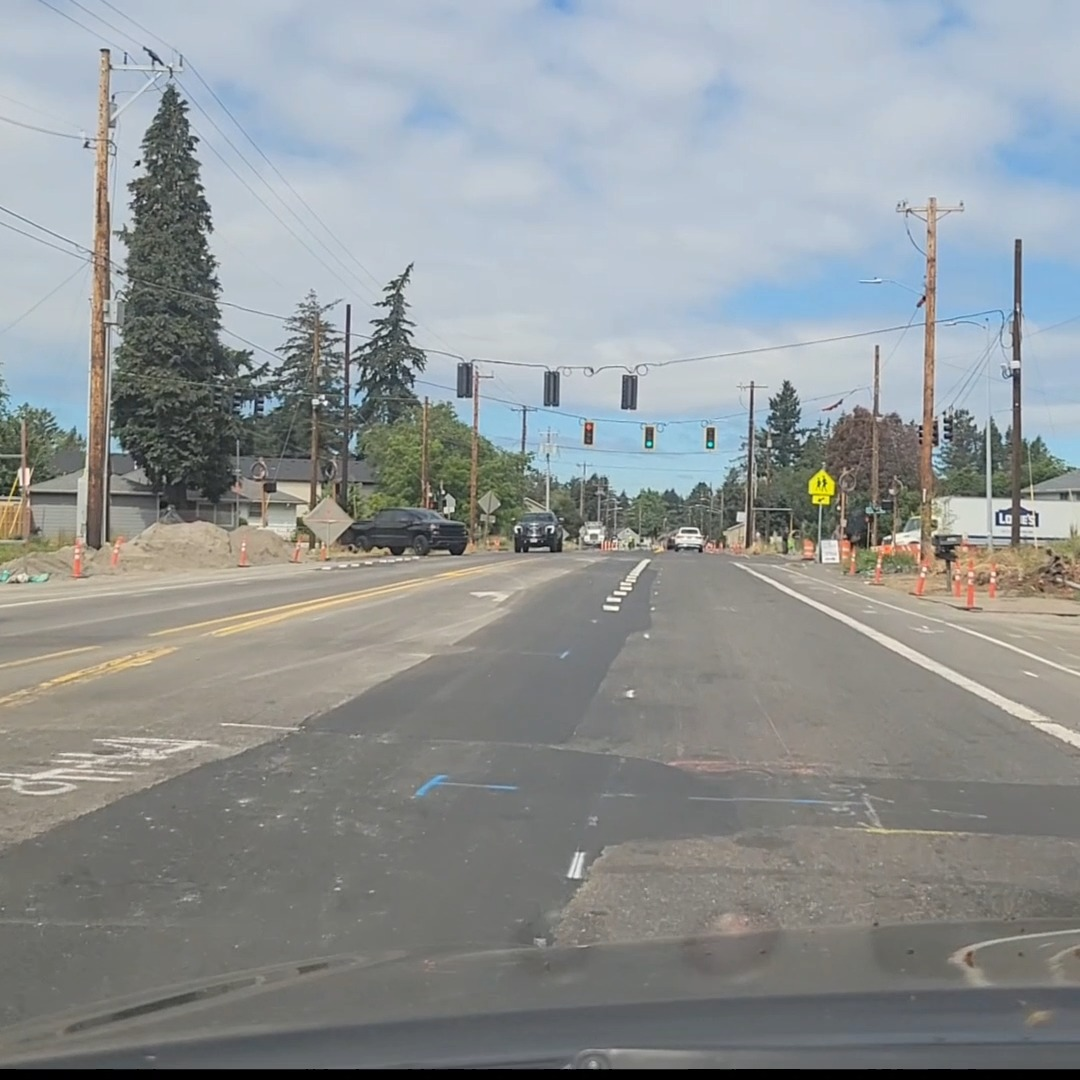car: (341, 507, 465, 555), (512, 512, 564, 552), (667, 527, 706, 552), (580, 520, 606, 548)
crosswalk-sign: (807, 469, 834, 505)
delineator: (70, 536, 83, 578), (964, 566, 976, 609), (111, 535, 124, 566), (914, 566, 927, 596), (872, 550, 884, 582), (952, 563, 962, 597), (987, 565, 997, 598), (237, 539, 248, 566), (290, 540, 302, 563), (849, 548, 857, 575), (318, 540, 328, 561), (882, 544, 893, 555)
